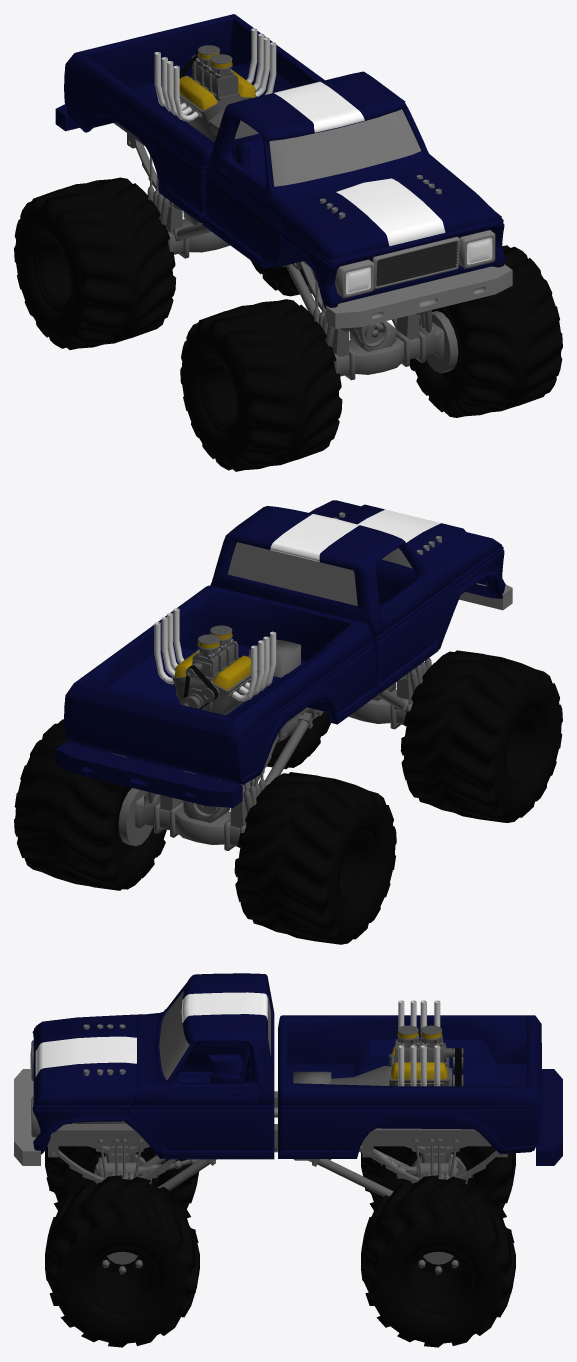
The model's file is Truck EX.fbx.
The picture shows the model from 3 angles, top to bottom: view 1: azimuth 30°, elevation 25°; view 2: azimuth 150°, elevation 25°; view 3: azimuth 270°, elevation 25°; orthographic projection. The views are drawn at different scales.
Visible parts, largest first — view 1: Main Body, Wheel FR, Wheel BR, Wheel FL, Wheel BL; view 2: Main Body, Wheel BR, Wheel FR, Wheel BL, Wheel FL; view 3: Main Body, Wheel FL, Wheel BL, Wheel BR, Wheel FR.
Part boxes in pixels (x1,y1,x2,y2): Main Body: (55,14,512,380); Wheel FR: (180,299,342,471); Wheel BR: (14,177,176,349); Wheel FL: (409,245,562,417); Wheel BL: (250,260,318,296); Main Body: (55,500,512,850); Wheel BR: (234,772,396,944); Wheel FR: (400,650,562,822); Wheel BL: (14,719,166,890); Wheel FL: (266,712,330,769); Main Body: (14,973,562,1274); Wheel FL: (45,1175,199,1347); Wheel BL: (361,1175,515,1347); Wheel BR: (361,1146,515,1210); Wheel FR: (45,1123,199,1210).
Bounding box in the file's own units: 339 × 298 × 535.
